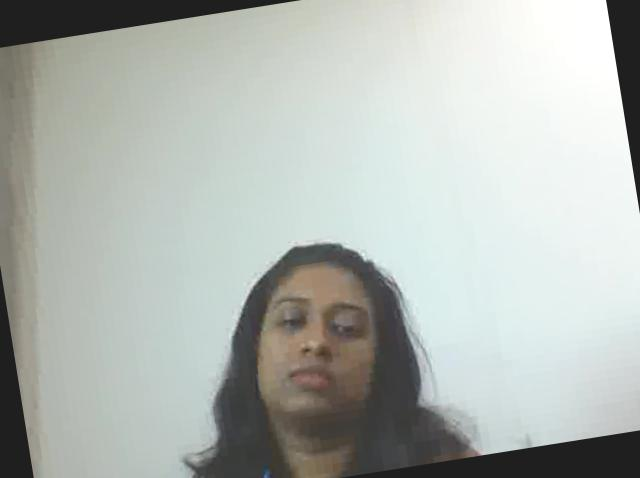bosan: (251, 260, 394, 416)
